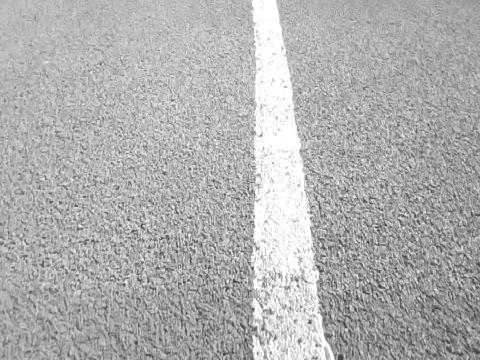Lines: (250, 0, 328, 360)
